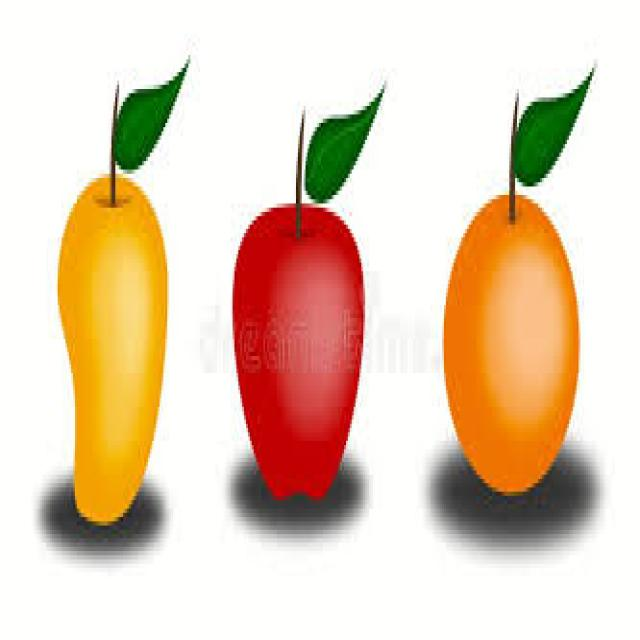Apple: (232, 205, 366, 503)
Mango: (56, 171, 171, 522)
Orange: (443, 188, 581, 496)
